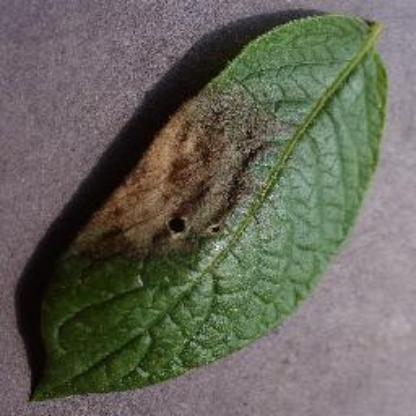Late-Blight: (15, 6, 395, 412)
